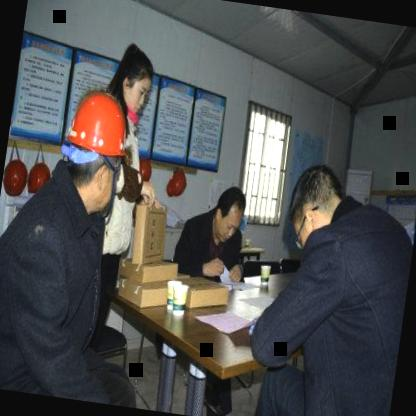head: (280, 154, 350, 246), (106, 36, 160, 122), (209, 182, 250, 245)
helmet: (54, 87, 138, 216)
